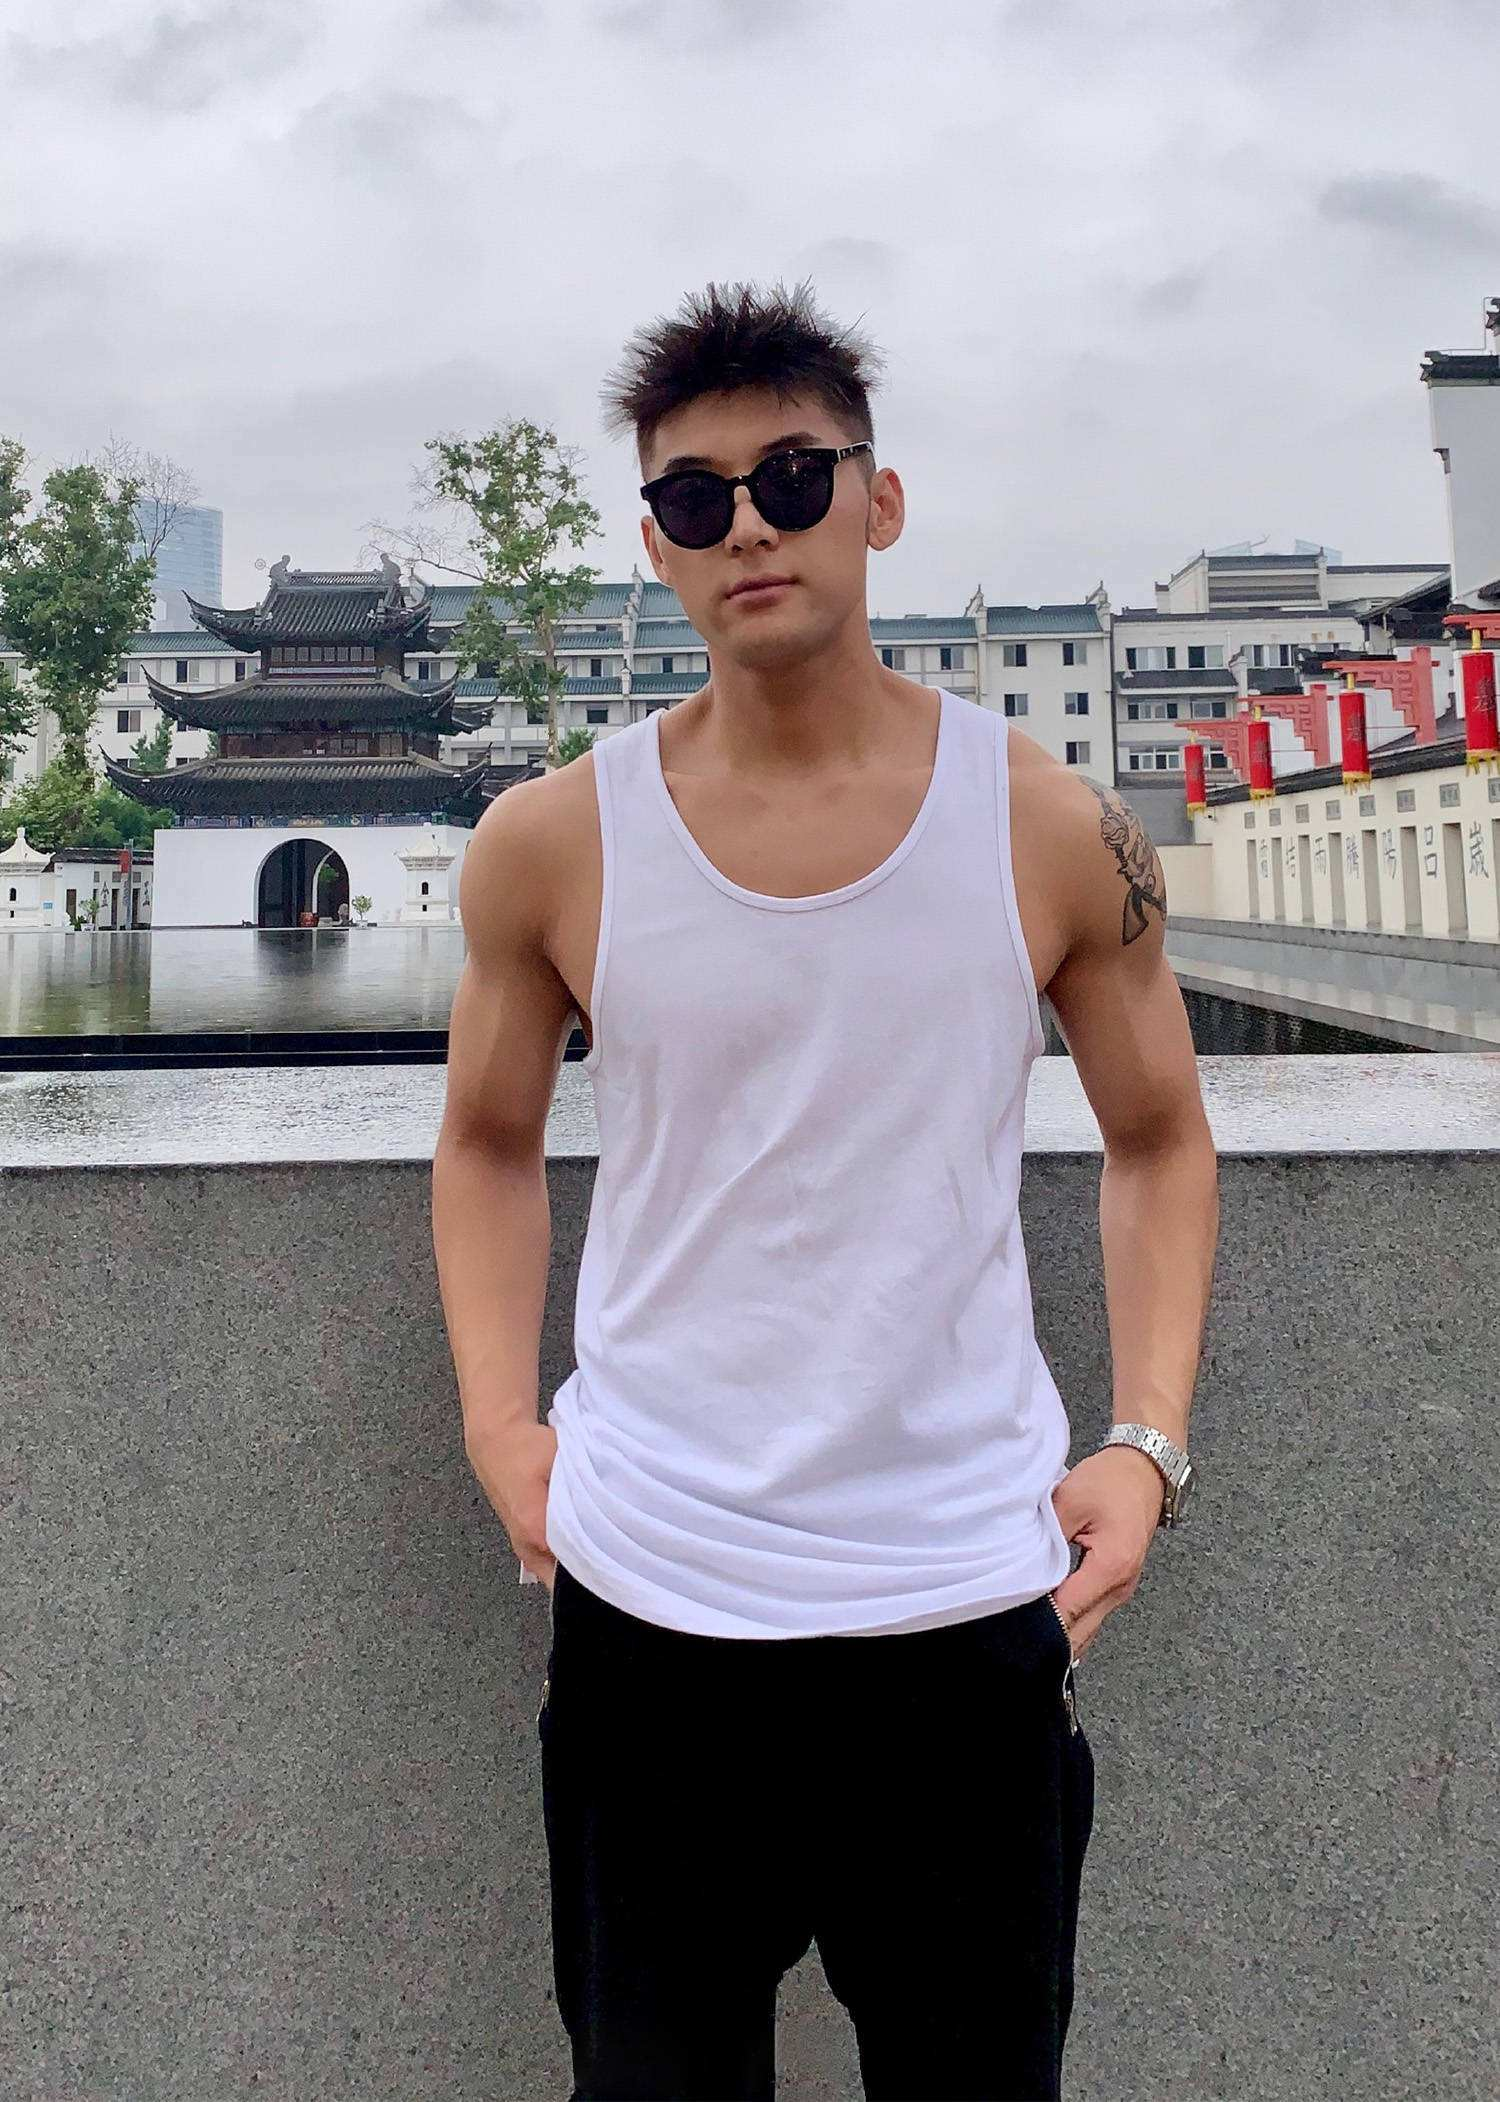person: (271, 164, 1215, 1968)
